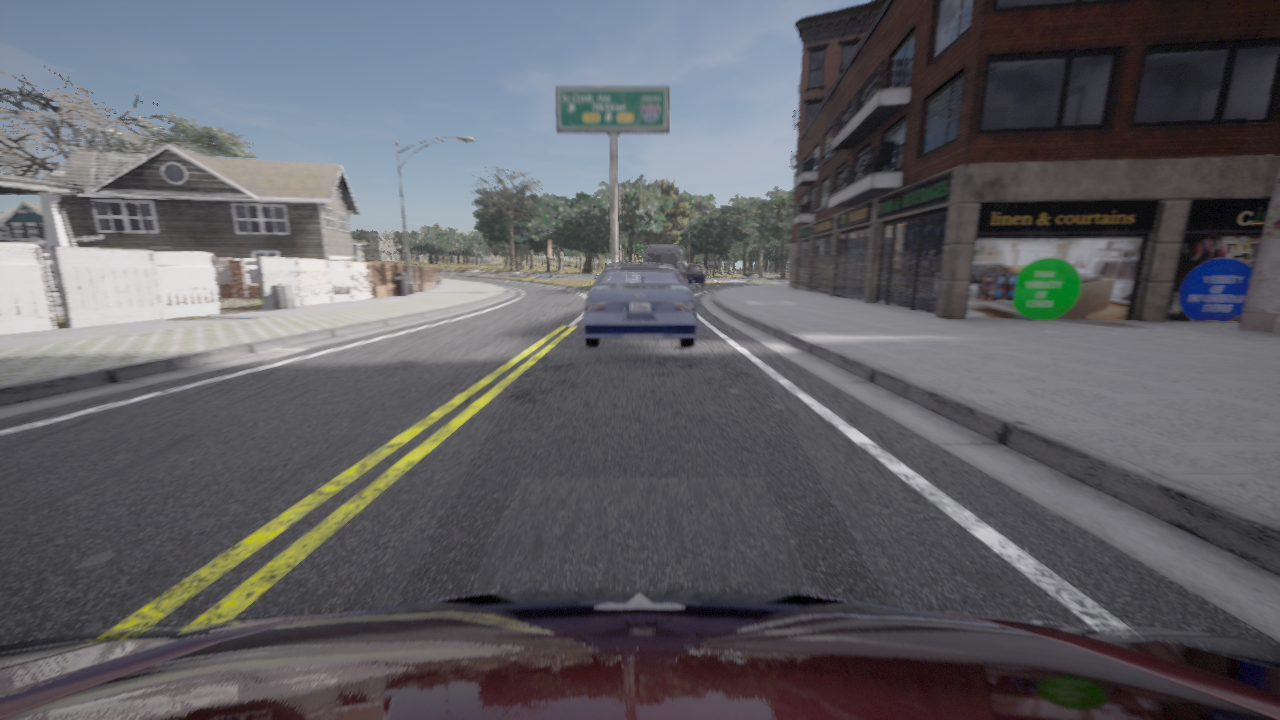cyclist: (0, 588, 1279, 719), (582, 262, 699, 347), (644, 245, 690, 283), (686, 263, 707, 289), (746, 275, 752, 284)
